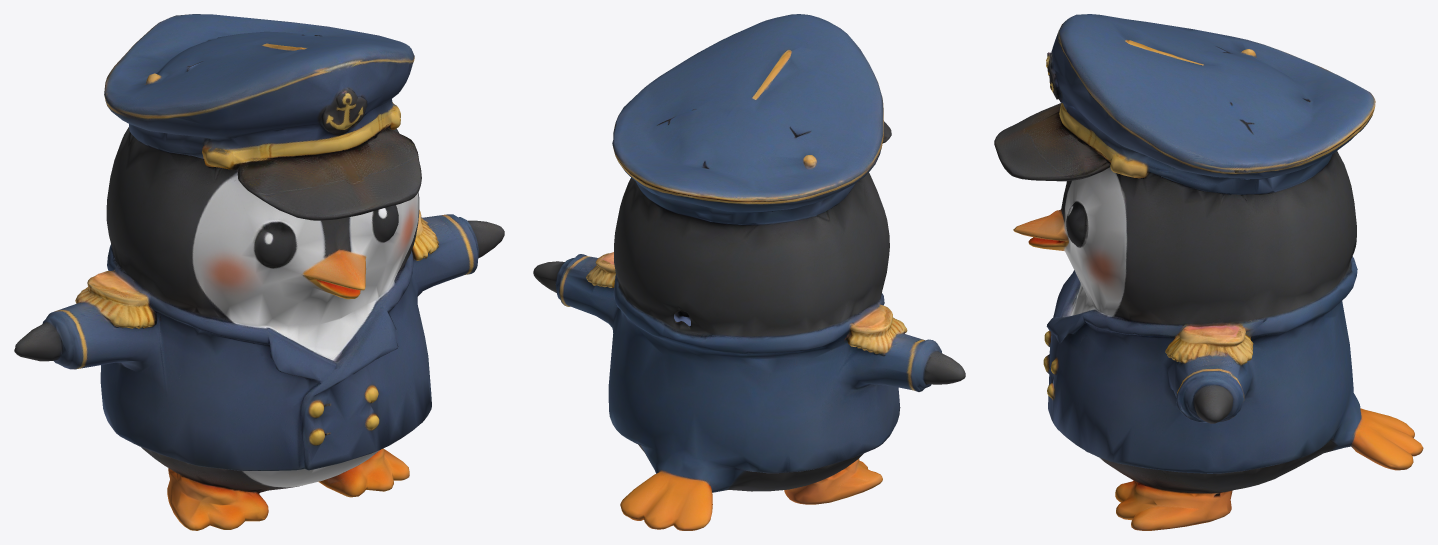
Rendered from hero3d-peng2-anim.glb.
3 views of the same model, side by side, from view 1: azimuth 30°, elevation 25°; view 2: azimuth 150°, elevation 25°; view 3: azimuth 270°, elevation 25° (orthographic). The views are drawn at different scales.
Bounding box in the file's own units: 2 × 1.86 × 1.59.
Materials: 1 (1 with a texture image).
